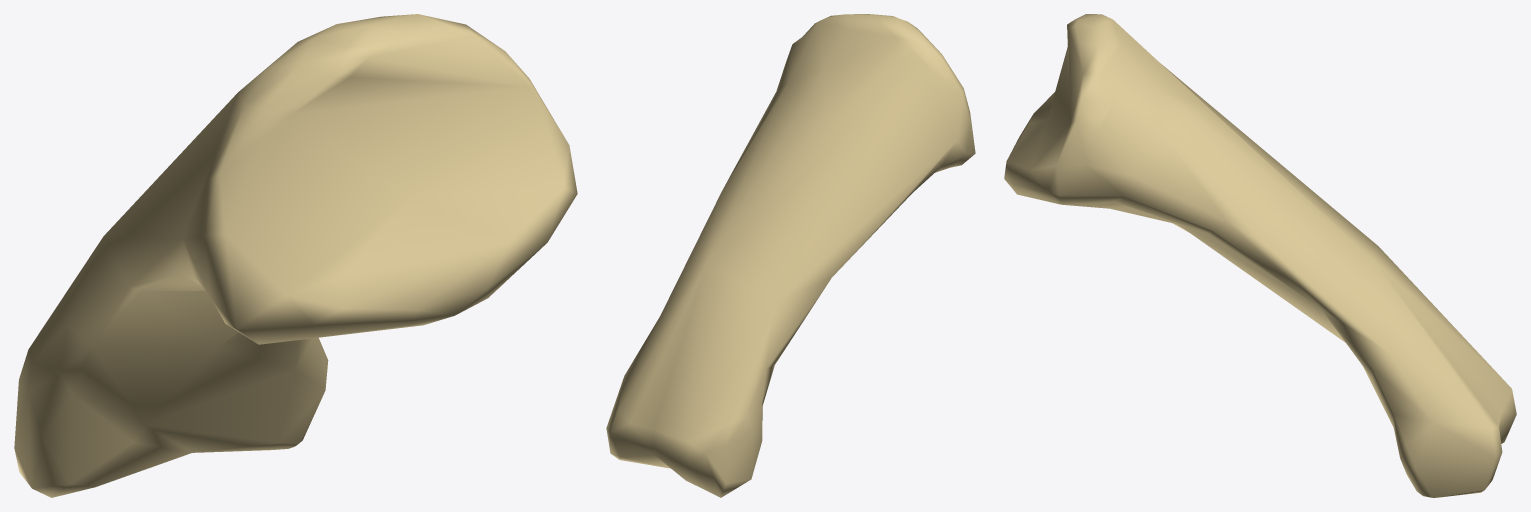
The picture shows the model from 3 angles, left to right: view 1: azimuth 30°, elevation 25°; view 2: azimuth 150°, elevation 25°; view 3: azimuth 270°, elevation 25°; orthographic projection. The views are drawn at different scales.
Parts seen in each view (by area): view 1: 左侧第三指中节指骨; view 2: 左侧第三指中节指骨; view 3: 左侧第三指中节指骨.
Boxes of the visible parts, left/top/right/bottom form: 左侧第三指中节指骨: left=14, top=14, right=577, bottom=497; 左侧第三指中节指骨: left=606, top=14, right=975, bottom=497; 左侧第三指中节指骨: left=1004, top=14, right=1516, bottom=497.
Size of the model in its own units: 0.0209 by 0.0351 by 0.0387.
